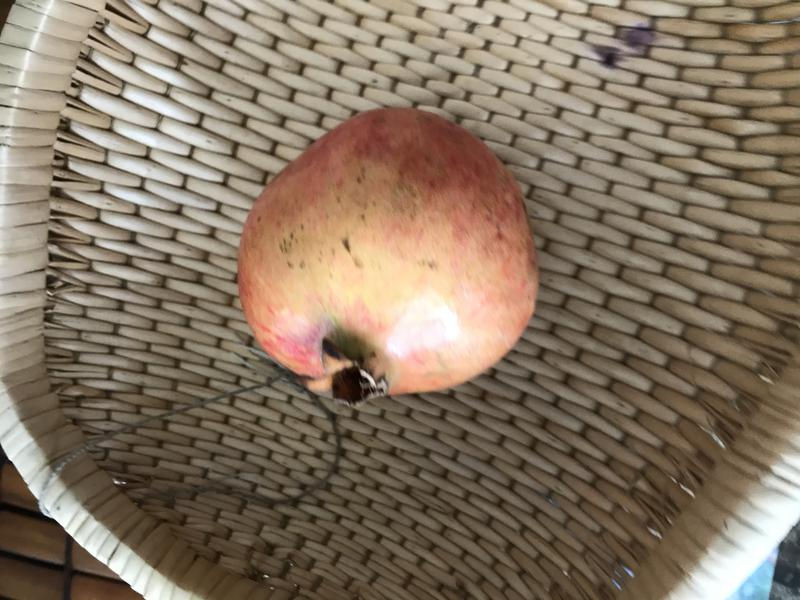pomegranate: (229, 103, 544, 417)
